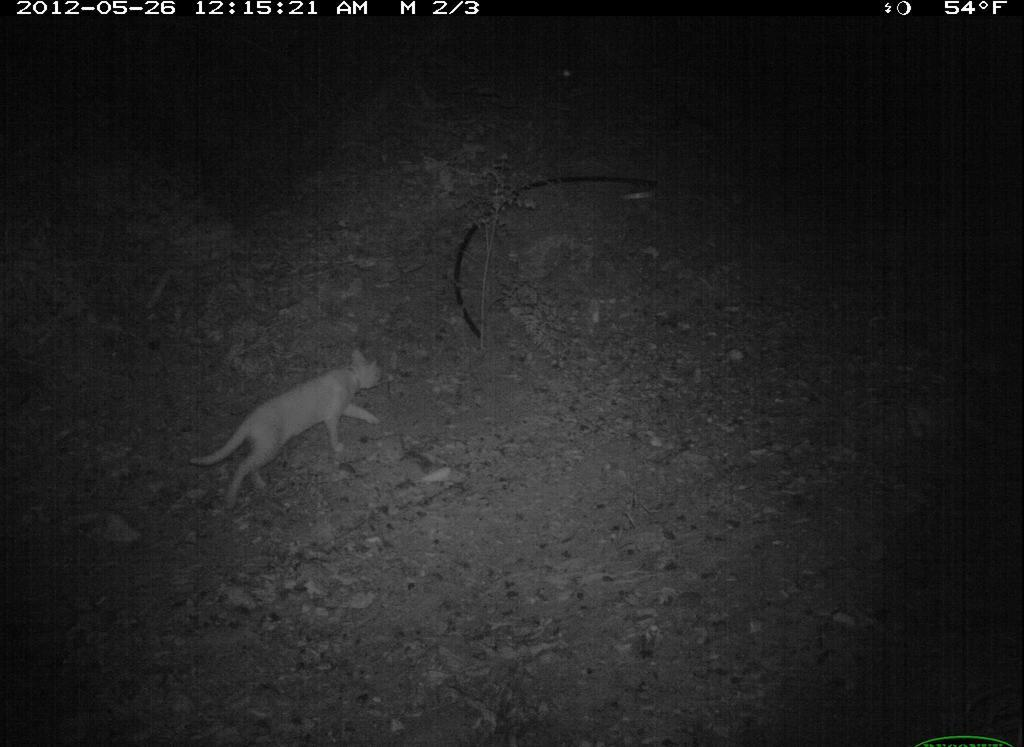cat: (193, 340, 402, 516)
